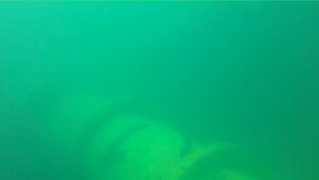1: (98, 122, 150, 172)
pipe: (44, 67, 273, 179)
